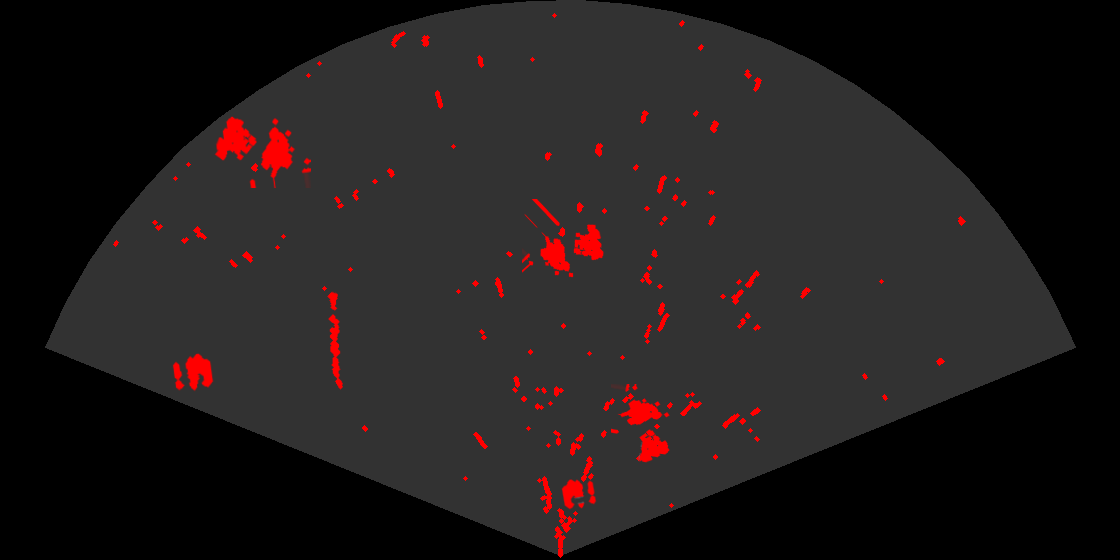ball: (171, 352, 215, 393), (560, 478, 598, 511)
cage: (213, 115, 311, 188), (522, 199, 605, 279), (611, 384, 671, 464)
chain: (326, 291, 344, 391)
